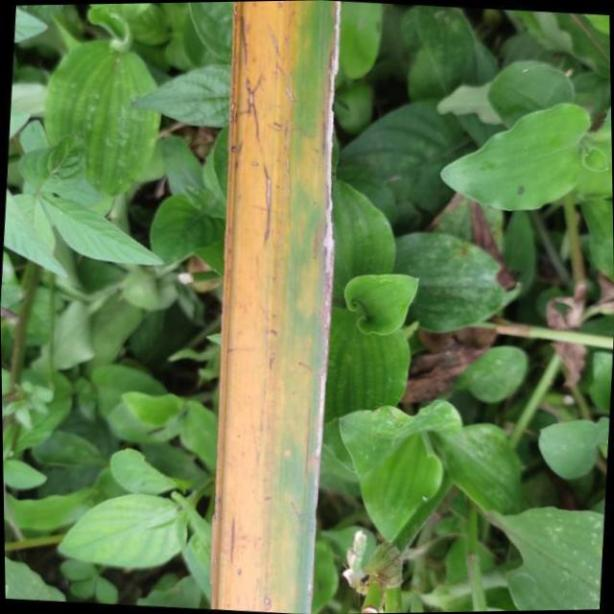Megnesium: (209, 0, 343, 605)
